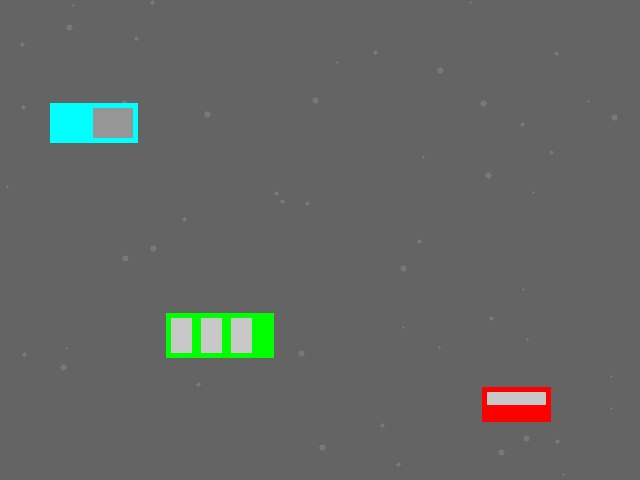bus: (166, 313, 273, 357)
car: (482, 387, 550, 421)
truck: (50, 103, 137, 142)
